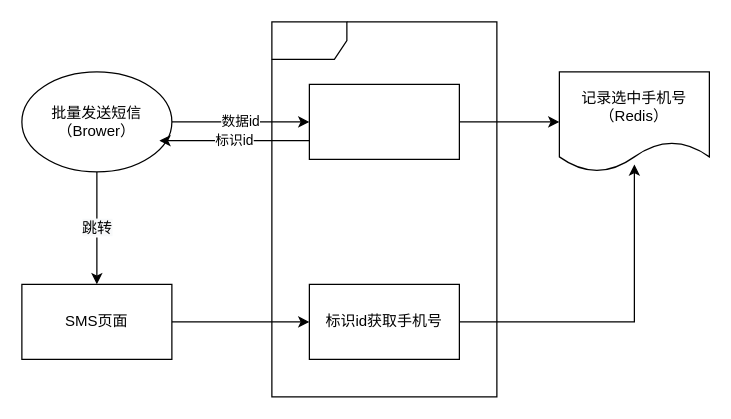
Image size: 731x419. Some labels were removed from this diagram. The shapes that lost their labels are listed below. From the top down, each one's box as (x1, y1, x2, y2) in pixels, then its label:
(308, 83, 459, 159): 查询数据
(271, 21, 497, 397): form
